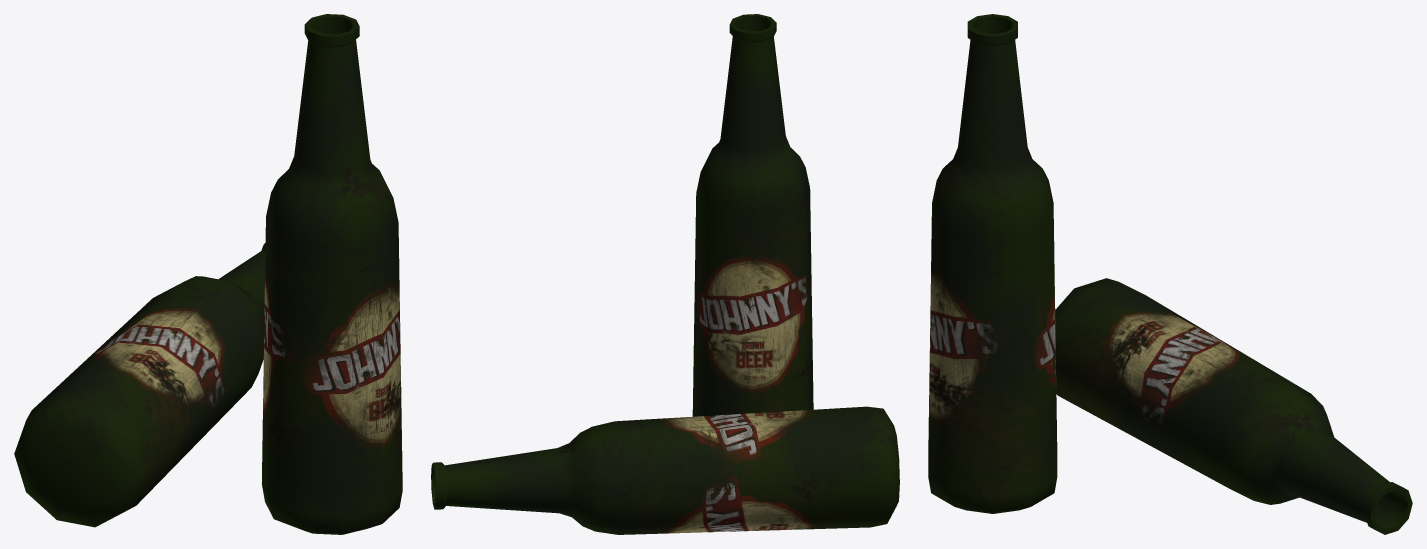
File: beer.glb
3 renders of one model, left to right at view 1: azimuth 30°, elevation 25°; view 2: azimuth 150°, elevation 25°; view 3: azimuth 270°, elevation 25°, orthographic. The views are drawn at different scales.
Visible parts, largest first — view 1: Bottle_Low, Bottle_Low1; view 2: Bottle_Low1, Bottle_Low; view 3: Bottle_Low, Bottle_Low1.
Boxes of the visible parts, <box> form: Bottle_Low: <box>261,14,402,534</box>; Bottle_Low1: <box>14,243,265,527</box>; Bottle_Low1: <box>431,406,899,534</box>; Bottle_Low: <box>692,14,813,416</box>; Bottle_Low: <box>928,14,1057,513</box>; Bottle_Low1: <box>1055,278,1412,534</box>.
Size of the model in its own units: 3.36 by 3.76 by 3.52.
Materials: 1 (1 with a texture image).
